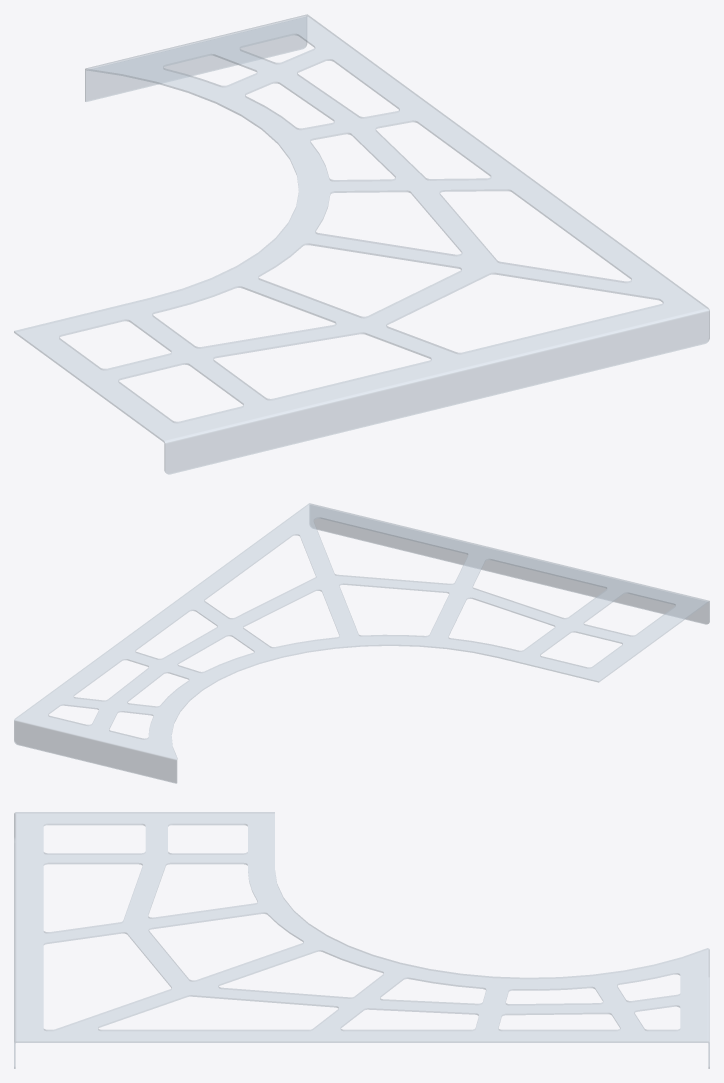
Rendered from 1690-top.glb.
3 renders of one model, top to bottom at view 1: azimuth 30°, elevation 25°; view 2: azimuth 150°, elevation 25°; view 3: azimuth 270°, elevation 25°, orthographic. The views are drawn at different scales.
Parts seen in each view (by area): view 1: Part 51; view 2: Part 51; view 3: Part 51.
Boxes of the visible parts, x1,y1,x2,y2 form: Part 51: (14,14,709,474); Part 51: (14,503,709,783); Part 51: (14,812,709,1068).
Bounding box in the file's own units: 0.6 × 0.0358 × 0.7701.
